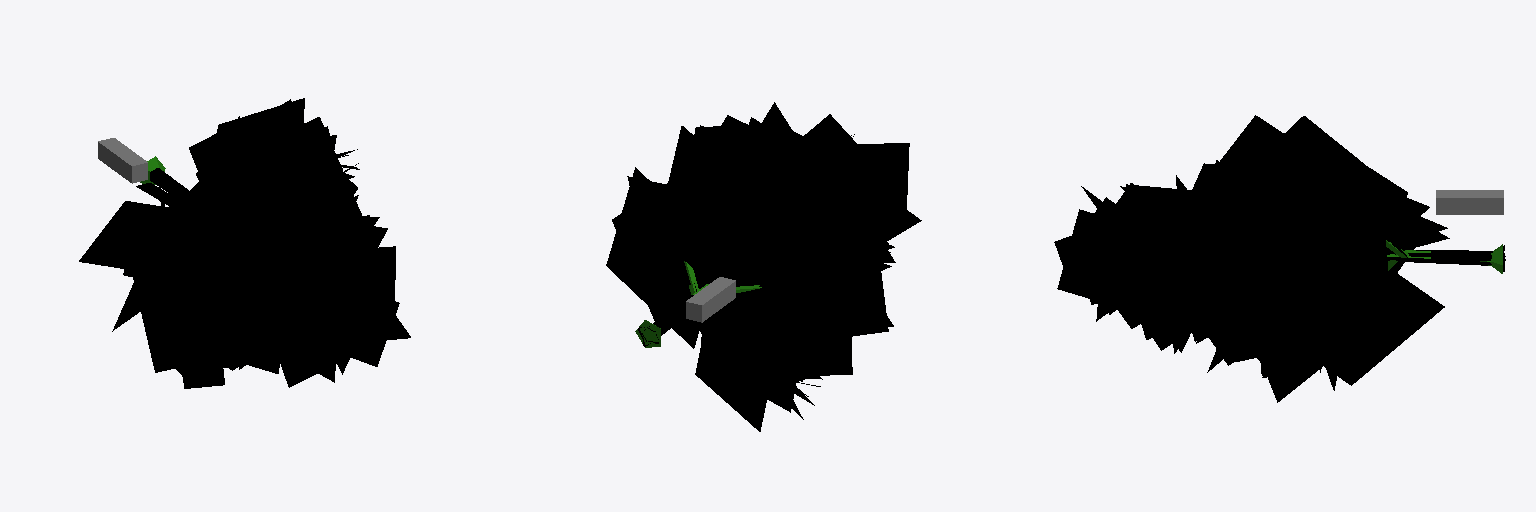
The model's file is AmericanSweetgum.obj.
3 renders of one model, left to right at view 1: azimuth 30°, elevation 25°; view 2: azimuth 150°, elevation 25°; view 3: azimuth 270°, elevation 25°, orthographic.
Visible parts, largest first — view 1: TREE_AmericanSweetgum_group cryExportNode_TREE_AmericanSweetgum , TREE_AmericanSweetgum TREE_AmericanSweetgum_group cryExportNode_, Sizer_Cube; view 2: TREE_AmericanSweetgum_group cryExportNode_TREE_AmericanSweetgum , TREE_AmericanSweetgum TREE_AmericanSweetgum_group cryExportNode_, Sizer_Cube; view 3: TREE_AmericanSweetgum_group cryExportNode_TREE_AmericanSweetgum , TREE_AmericanSweetgum TREE_AmericanSweetgum_group cryExportNode_, Sizer_Cube.
Part boxes in pixels (x1,y1,x2,y2): TREE_AmericanSweetgum_group cryExportNode_TREE_AmericanSweetgum : (79, 98, 387, 374); TREE_AmericanSweetgum TREE_AmericanSweetgum_group cryExportNode_: (118, 116, 410, 388); Sizer_Cube: (98, 138, 147, 183); TREE_AmericanSweetgum_group cryExportNode_TREE_AmericanSweetgum : (606, 102, 904, 431); TREE_AmericanSweetgum TREE_AmericanSweetgum_group cryExportNode_: (628, 114, 921, 412); Sizer_Cube: (686, 277, 735, 322); TREE_AmericanSweetgum_group cryExportNode_TREE_AmericanSweetgum : (1054, 115, 1502, 402); TREE_AmericanSweetgum TREE_AmericanSweetgum_group cryExportNode_: (1057, 148, 1505, 390); Sizer_Cube: (1436, 190, 1503, 214).
Size of the model in its own units: 834 by 835 by 1189.